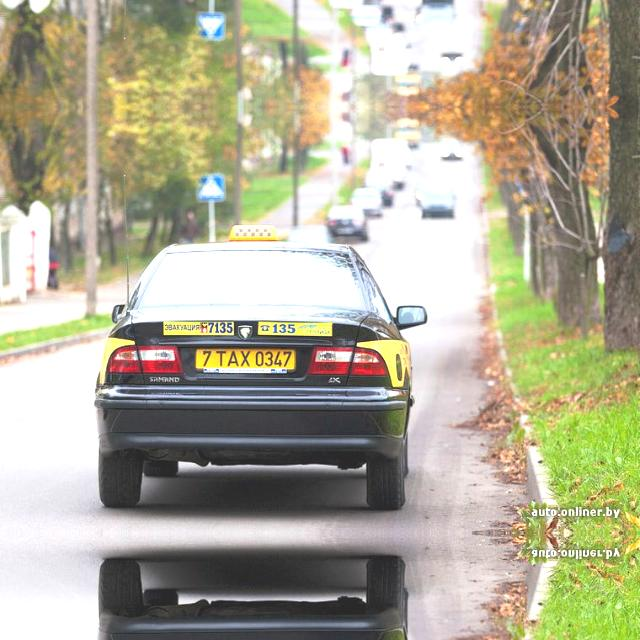taxi: (192, 345, 298, 375)
